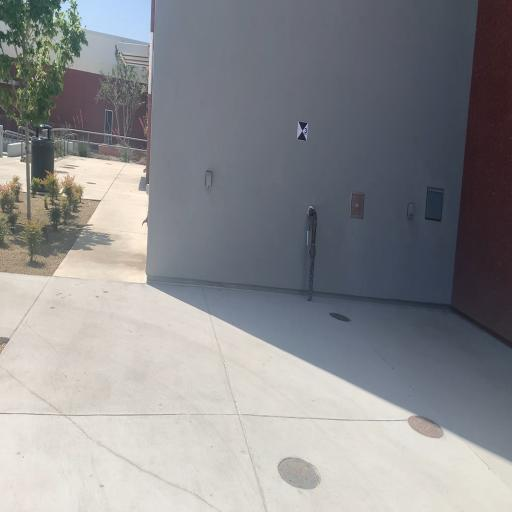target3: (296, 120, 309, 143)
